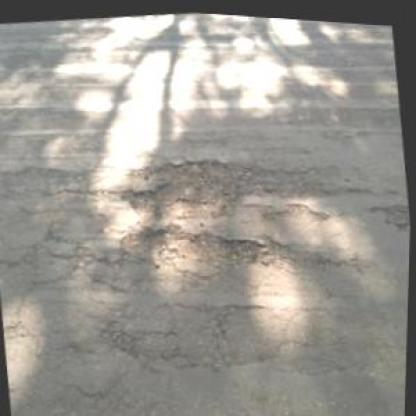pothole: (116, 205, 296, 290), (118, 144, 279, 233)
